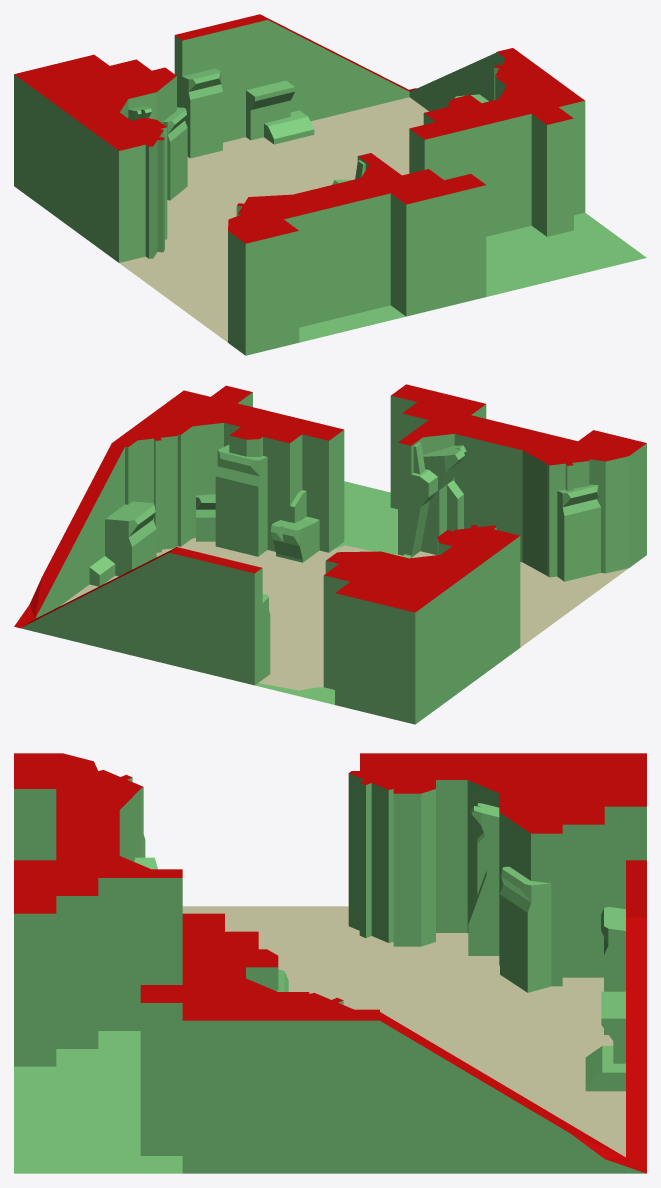
Rendered from x_oo_ground_56_wall_K2_1_rmstrd_2.fbx.
The picture shows the model from 3 angles, top to bottom: view 1: azimuth 30°, elevation 25°; view 2: azimuth 150°, elevation 25°; view 3: azimuth 270°, elevation 25°; orthographic projection. The views are drawn at different scales.
Parts seen in each view (by area): view 1: x_oo_ground_56_wall_K2_1_rmstrd_2_1; view 2: x_oo_ground_56_wall_K2_1_rmstrd_2_1; view 3: x_oo_ground_56_wall_K2_1_rmstrd_2_1.
Boxes of the visible parts, bbox=[...] form: x_oo_ground_56_wall_K2_1_rmstrd_2_1: bbox=[14, 14, 646, 355]; x_oo_ground_56_wall_K2_1_rmstrd_2_1: bbox=[14, 384, 646, 724]; x_oo_ground_56_wall_K2_1_rmstrd_2_1: bbox=[14, 753, 646, 1173].
Size of the model in its own units: 15 by 4 by 15.
